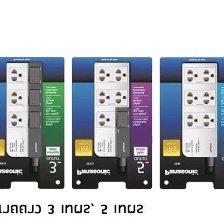book: (70, 55, 154, 190), (154, 53, 223, 191), (0, 51, 67, 193)
three_eye_plug: (178, 60, 221, 160), (92, 58, 133, 158), (3, 59, 44, 159)
